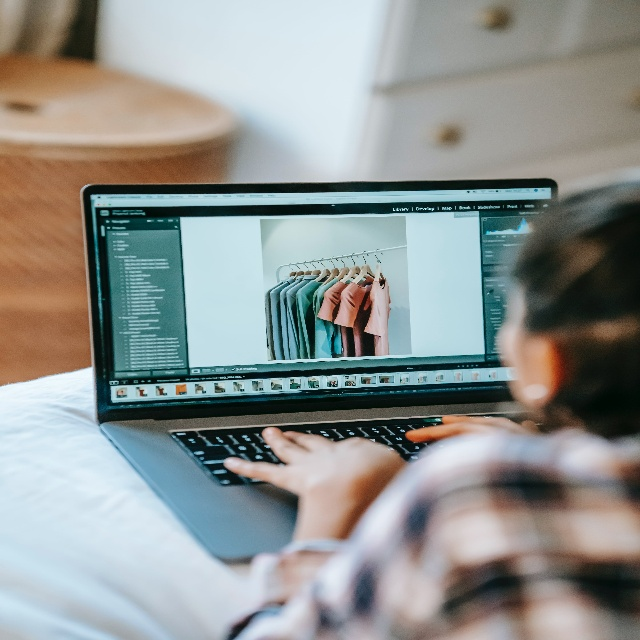Sin_guantes: (222, 424, 410, 529)
